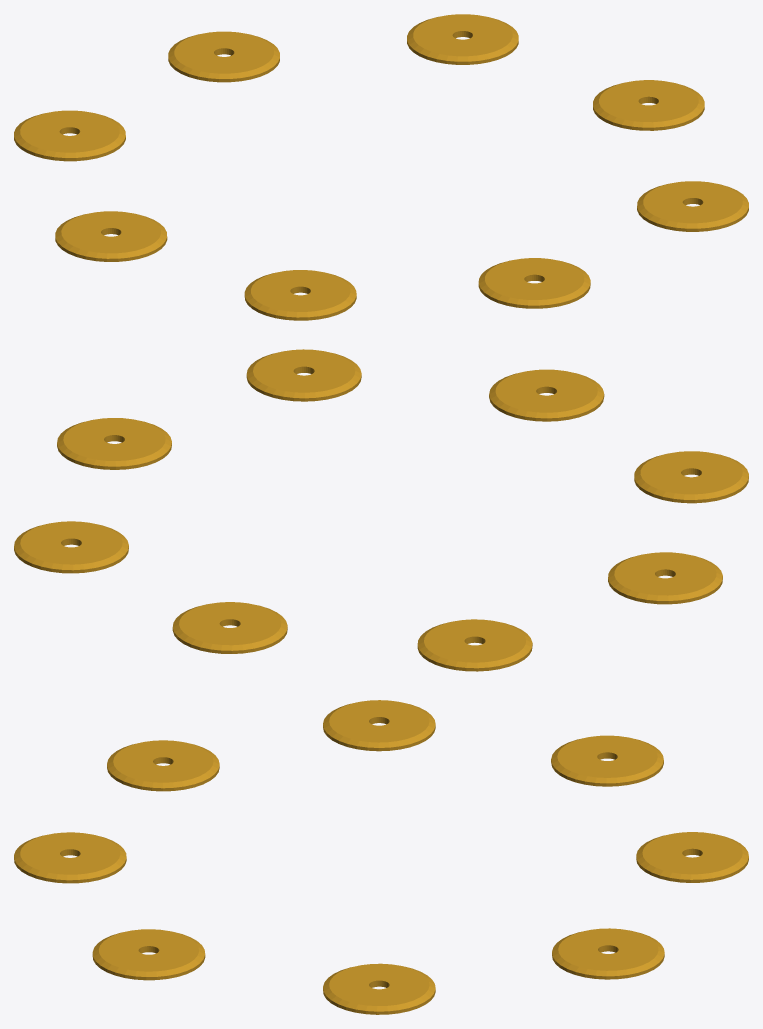
The model's file is bell.obj.
3 renders of one model, top to bottom at view 1: azimuth 30°, elevation 25°; view 2: azimuth 150°, elevation 25°; view 3: azimuth 270°, elevation 25°, orthographic. The views are drawn at different scales.
Visible parts, largest first — view 1: 円柱.002; view 2: 円柱.002; view 3: 円柱.002.
Part boxes in pixels (box(x1,y1,x2,y2)): 円柱.002: box(14, 14, 748, 320); 円柱.002: box(14, 349, 748, 671); 円柱.002: box(14, 700, 748, 1014).
Size of the model in its own units: 1.09 by 0.00997 by 1.09.
Materials: 1 (1 with a texture image).
